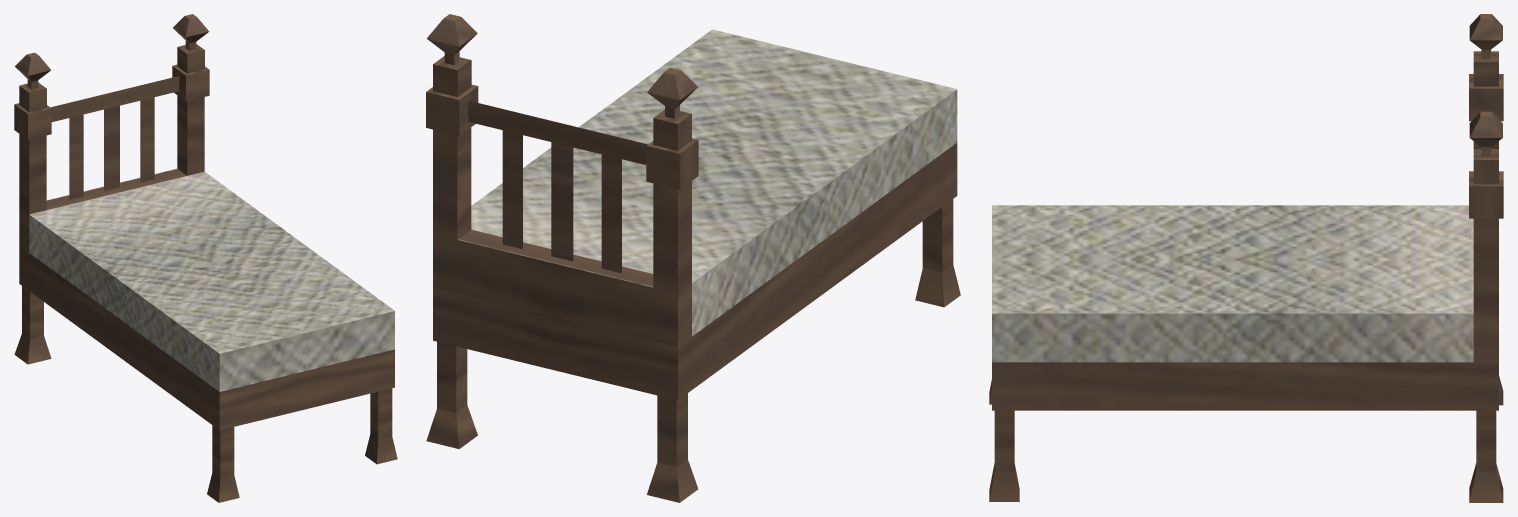
The model's file is Lit.fbx.
The picture shows the model from 3 angles, left to right: view 1: azimuth 30°, elevation 25°; view 2: azimuth 150°, elevation 25°; view 3: azimuth 270°, elevation 25°; orthographic projection. The views are drawn at different scales.
Parts seen in each view (by area): view 1: Cube; view 2: Cube; view 3: Cube.
Boxes of the visible parts, x1=… form: Cube: x1=14, y1=14, x2=397, y2=502; Cube: x1=426, y1=14, x2=960, y2=502; Cube: x1=989, y1=14, x2=1503, y2=502.
Size of the model in its own units: 497 by 788 by 962.
